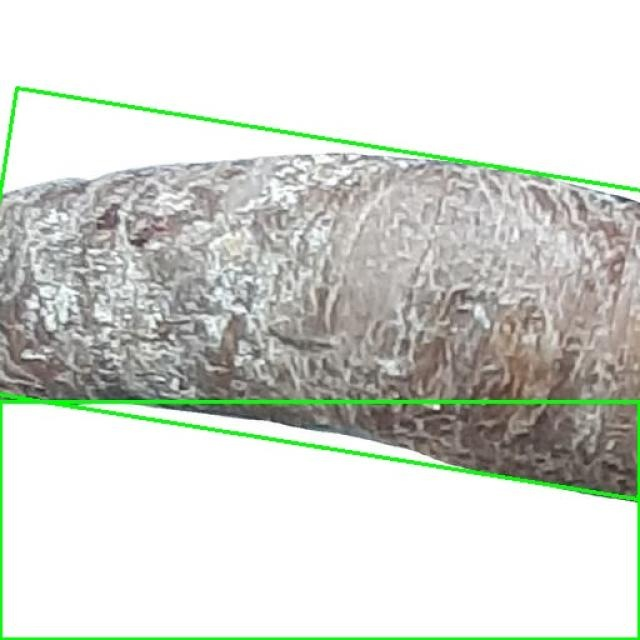Eczema: (0, 88, 640, 500), (0, 401, 639, 639)
